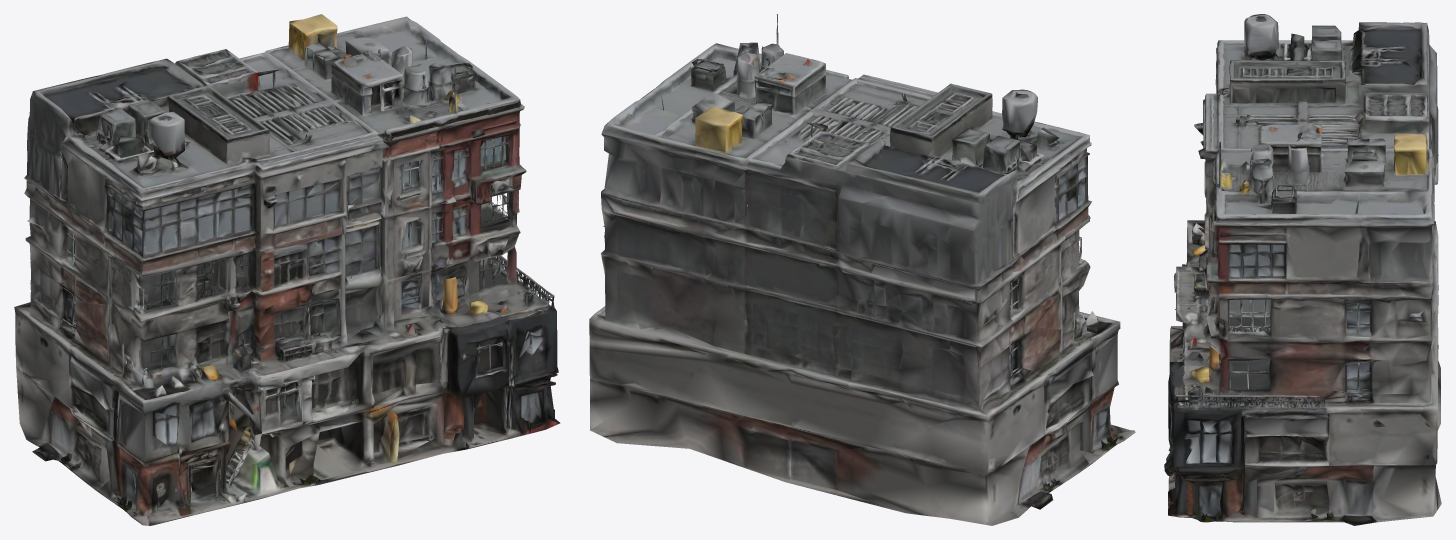
File: lm_tenement.glb
3 renders of one model, left to right at view 1: azimuth 30°, elevation 25°; view 2: azimuth 150°, elevation 25°; view 3: azimuth 270°, elevation 25°, orthographic. The views are drawn at different scales.
Visible parts, largest first — view 1: tripo_node_eb5efa76-1309-48bc-a569-13b61e92c8a1; view 2: tripo_node_eb5efa76-1309-48bc-a569-13b61e92c8a1; view 3: tripo_node_eb5efa76-1309-48bc-a569-13b61e92c8a1.
Boxes of the visible parts, x1,y1,x2,y2 form: tripo_node_eb5efa76-1309-48bc-a569-13b61e92c8a1: [14, 14, 560, 525]; tripo_node_eb5efa76-1309-48bc-a569-13b61e92c8a1: [589, 14, 1135, 525]; tripo_node_eb5efa76-1309-48bc-a569-13b61e92c8a1: [1164, 14, 1441, 525].
Bounding box in the file's own units: 0.9776 × 0.7662 × 0.5649.
Materials: 1 (1 with a texture image).
